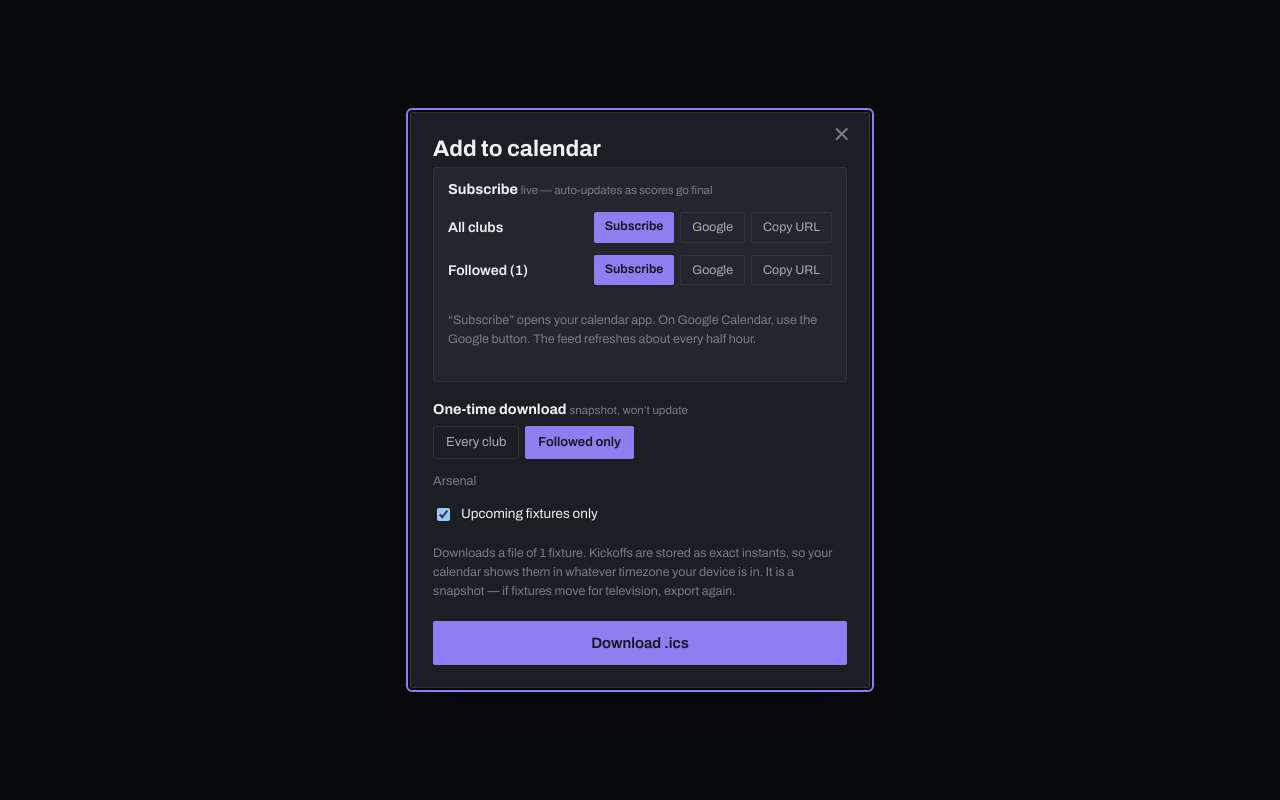
CalendarModal › switches back to every club
This screenshot has width=1280, height=800.
Click the button "Every club": (476, 443) [433, 426, 519, 460]
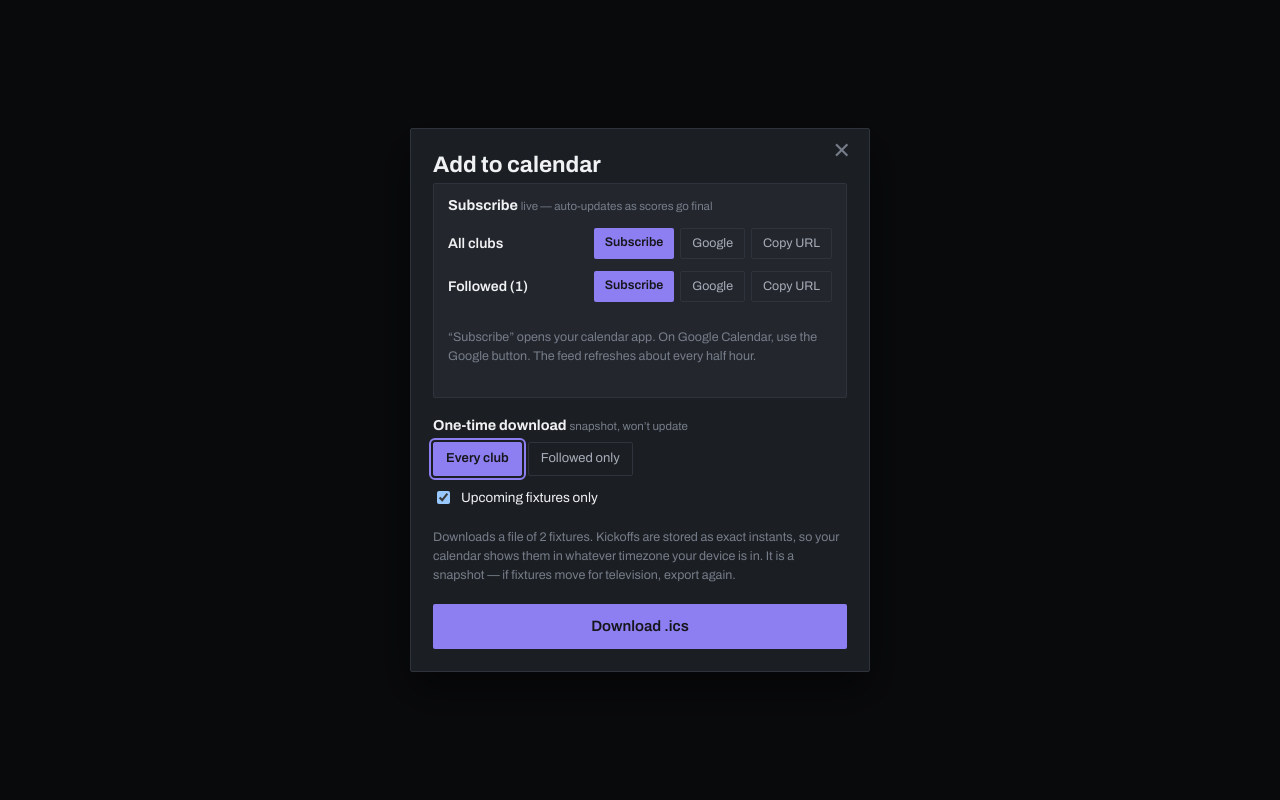
Result: the text "Arsenal" is gone
Result: the text "Downloads a file of 2 fixtures" is shown at [433, 520, 847, 592]
Click the button "Followed only": (580, 459) [528, 442, 633, 476]
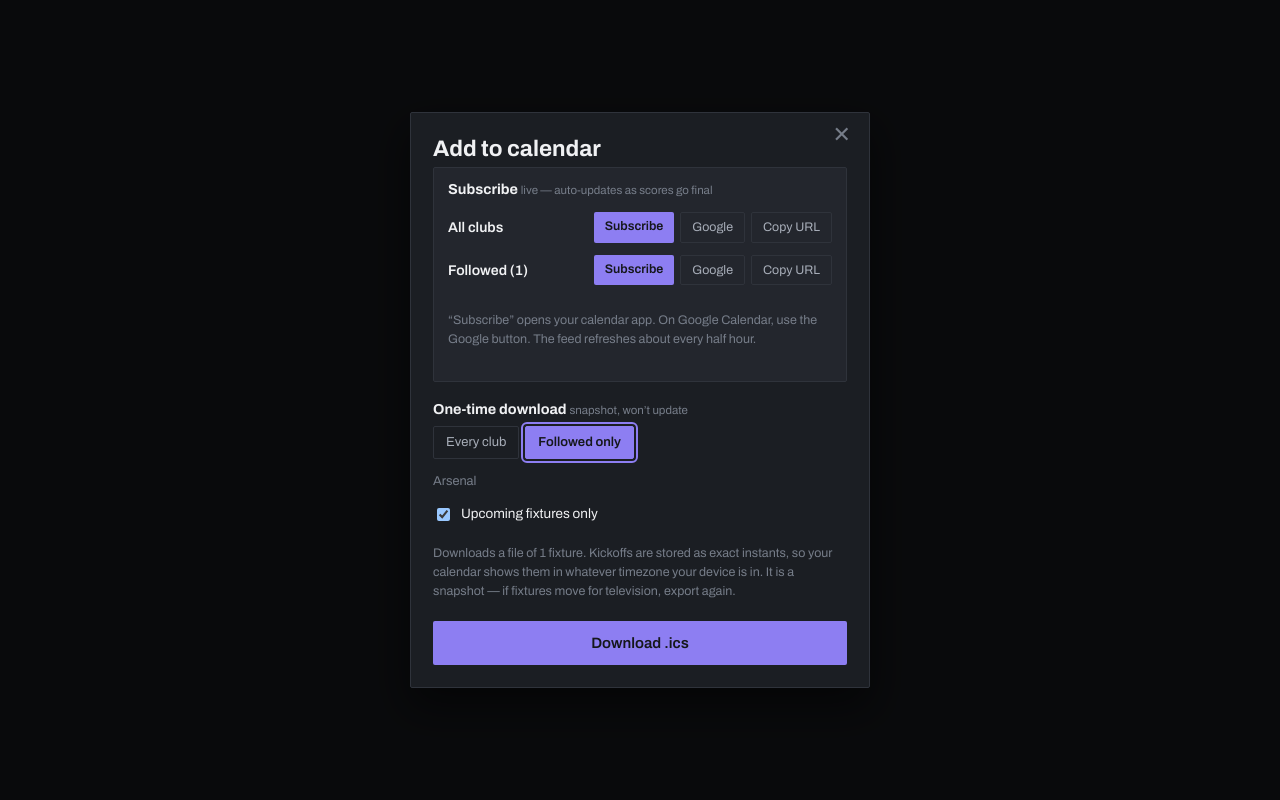
Result: the text "Arsenal" is shown at [433, 474, 476, 488]
Result: the text "Downloads a file of 1 fixture." is shown at [433, 536, 847, 609]
